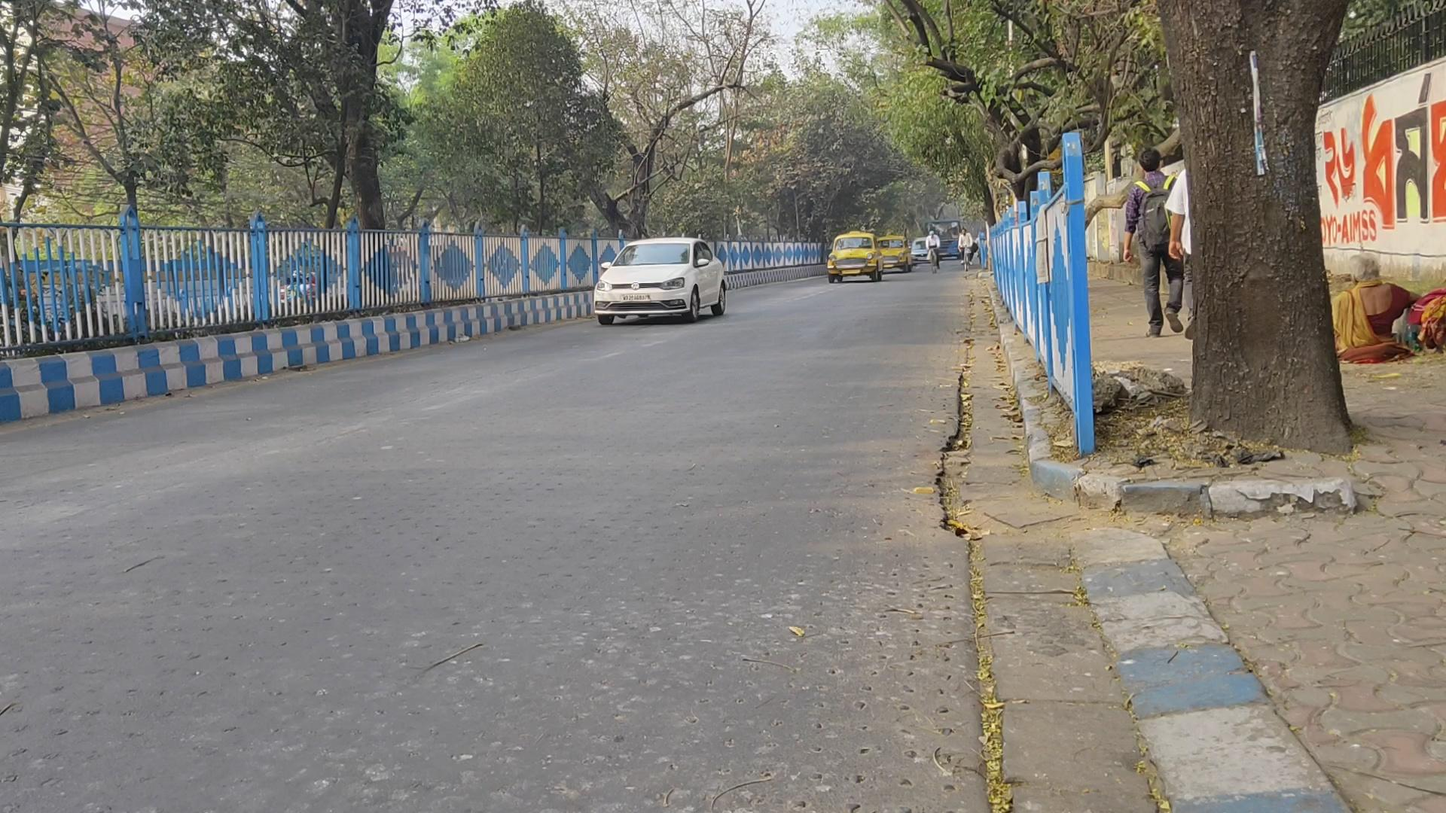Bus: (924, 218, 964, 261)
bike: (958, 228, 975, 271), (926, 229, 941, 275)
car: (591, 237, 728, 325), (827, 230, 883, 285), (878, 235, 913, 276), (911, 236, 936, 267)
